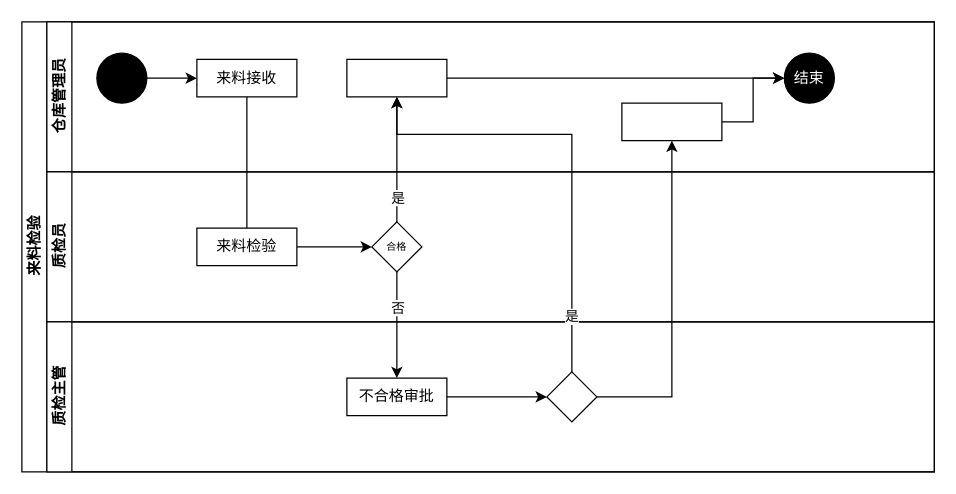
The diagram is 956 pixels wide and 494 high, and some of its shapes have lost their labels. The centre of each missing label's shape, as x and y in pixels:
开始: (121,77)
收货入库: (396,77)
让步接收: (571,396)
退货供应商: (671,121)
